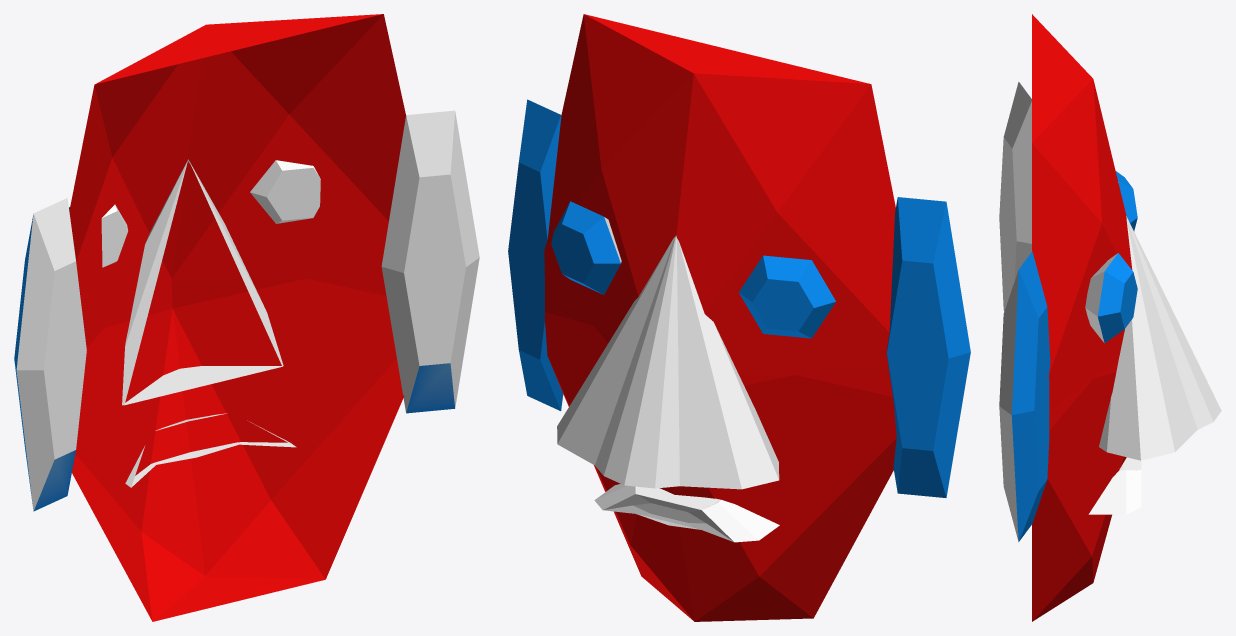
File: ThunderRed.fbx
The picture shows the model from 3 angles, left to right: view 1: azimuth 30°, elevation 25°; view 2: azimuth 150°, elevation 25°; view 3: azimuth 270°, elevation 25°; orthographic projection. The views are drawn at different scales.
Visible parts, largest first — view 1: Cube, Torus.001, Cone, Torus.004, Torus.002; view 2: Cube, Cone, Torus.001, Torus.004, Torus.002; view 3: Cube, Torus.001, Cone, Torus.004, Torus.002.
Boxes of the visible parts, bbox=[...] form: Cube: bbox=[69, 14, 406, 621]; Torus.001: bbox=[14, 110, 479, 511]; Cone: bbox=[122, 159, 283, 405]; Torus.004: bbox=[69, 160, 320, 267]; Torus.002: bbox=[125, 413, 296, 487]; Cube: bbox=[544, 14, 896, 621]; Cone: bbox=[557, 236, 779, 489]; Torus.001: bbox=[508, 99, 970, 497]; Torus.004: bbox=[551, 201, 836, 338]; Torus.002: bbox=[594, 484, 779, 542]; Cube: bbox=[1032, 14, 1132, 621]; Torus.001: bbox=[999, 82, 1050, 541]; Cone: bbox=[1099, 216, 1221, 460]; Torus.004: bbox=[1085, 171, 1137, 343]; Torus.002: bbox=[1088, 457, 1141, 514].
Bounding box in the file's own units: 798 × 908 × 363.
